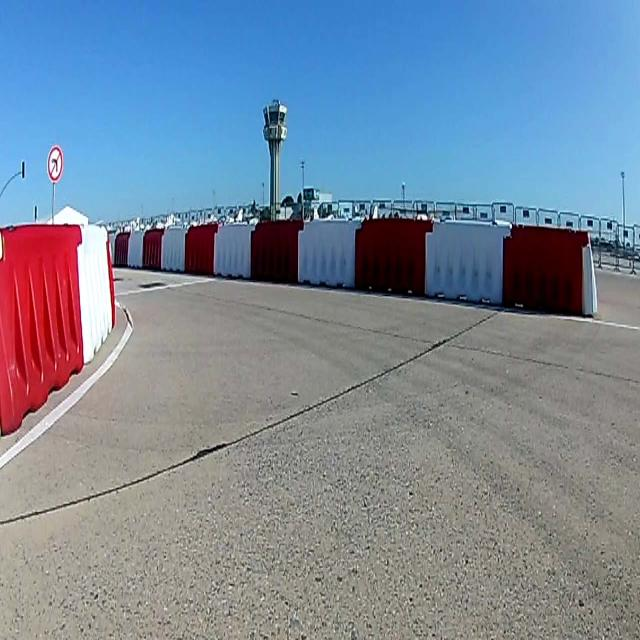soladonulmez: (49, 146, 63, 180)
